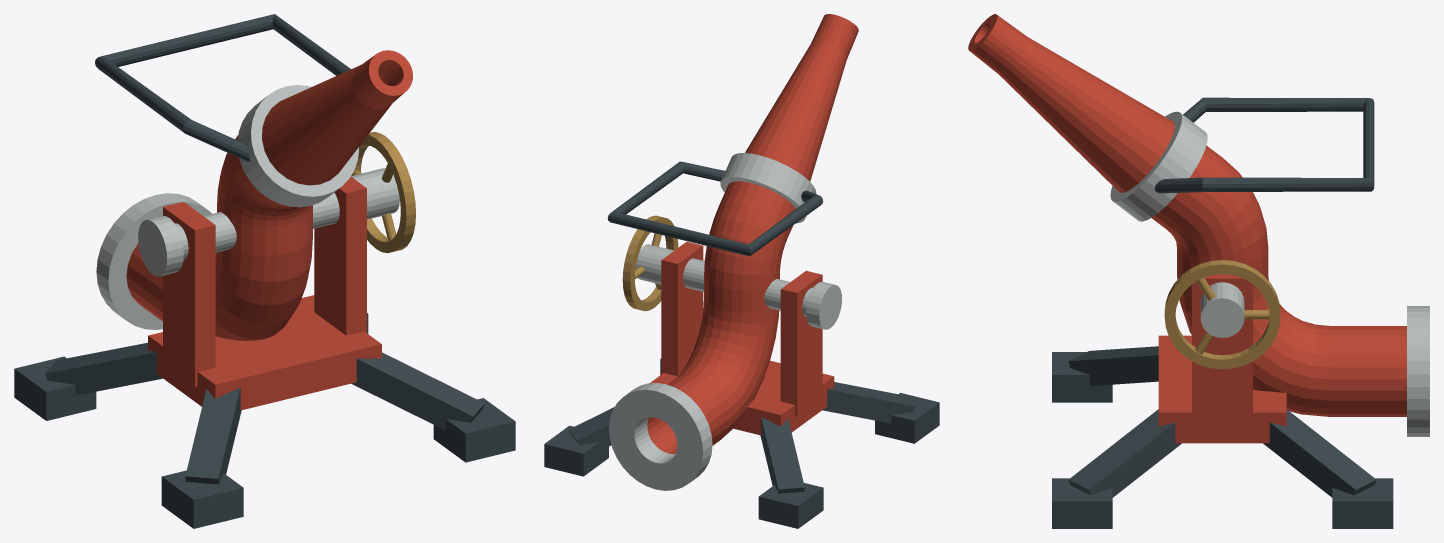
The picture shows the model from 3 angles, left to right: view 1: azimuth 30°, elevation 25°; view 2: azimuth 150°, elevation 25°; view 3: azimuth 270°, elevation 25°; orthographic projection. The views are drawn at different scales.
Visible parts, largest first — view 1: WholeBentBodyAndTaperedOpenNozzle, WholeLowBaseAndUprightFork, WholeRearwardOpenUHandle, WholeSplayedFootArm1_-1, WholeRearOpenInletCollar, WholeUpperNozzleShoulderCollar, WholeSplayedFootArm-1_1, WholeSplayedFootArm-1_-1, WholeGroundShoe-1_-1, WholeGroundShoe1_-1, WholeGroundShoe-1_1, WholeRightOpenHandwheel (+4 smaller); view 2: WholeBentBodyAndTaperedOpenNozzle, WholeLowBaseAndUprightFork, WholeRearOpenInletCollar, WholeRearwardOpenUHandle, WholeUpperNozzleShoulderCollar, WholeSplayedFootArm-1_-1, WholeSplayedFootArm-1_1, WholeGroundShoe-1_1, WholeGroundShoe1_1, WholeGroundShoe-1_-1, WholeRightOpenHandwheel, WholeLeftTrunnionCap (+4 smaller); view 3: WholeBentBodyAndTaperedOpenNozzle, WholeLowBaseAndUprightFork, WholeRearwardOpenUHandle, WholeSplayedFootArm1_1, WholeSplayedFootArm1_-1, WholeRightOpenHandwheel, WholeUpperNozzleShoulderCollar, WholeRearOpenInletCollar, WholeSplayedFootArm-1_-1, WholeGroundShoe1_1, WholeGroundShoe1_-1, WholeGroundShoe-1_-1 (+1 smaller).
Part boxes in pixels (left/top/right/bottom): WholeBentBodyAndTaperedOpenNozzle: left=126, top=50, right=412, bottom=340; WholeLowBaseAndUprightFork: left=148, top=176, right=381, bottom=410; WholeRearwardOpenUHandle: left=95, top=14, right=350, bottom=161; WholeSplayedFootArm1_-1: left=351, top=352, right=484, bottom=430; WholeRearOpenInletCollar: left=96, top=193, right=211, bottom=329; WholeUpperNozzleShoulderCollar: left=237, top=85, right=358, bottom=207; WholeSplayedFootArm-1_1: left=45, top=342, right=162, bottom=395; WholeSplayedFootArm-1_-1: left=185, top=387, right=241, bottom=484; WholeGroundShoe-1_-1: left=161, top=470, right=243, bottom=528; WholeGroundShoe1_-1: left=433, top=398, right=515, bottom=462; WholeGroundShoe-1_1: left=14, top=356, right=96, bottom=420; WholeRightOpenHandwheel: left=351, top=132, right=415, bottom=253; WholeBentBodyAndTaperedOpenNozzle: left=647, top=14, right=858, bottom=453; WholeLowBaseAndUprightFork: left=650, top=241, right=834, bottom=435; WholeRearOpenInletCollar: left=609, top=383, right=712, bottom=490; WholeRearwardOpenUHandle: left=607, top=161, right=823, bottom=256; WholeUpperNozzleShoulderCollar: left=720, top=153, right=816, bottom=223; WholeSplayedFootArm-1_-1: left=822, top=382, right=915, bottom=423; WholeSplayedFootArm-1_1: left=760, top=417, right=804, bottom=493; WholeGroundShoe-1_1: left=758, top=483, right=823, bottom=528; WholeGroundShoe1_1: left=544, top=425, right=608, bottom=476; WholeGroundShoe-1_-1: left=875, top=393, right=939, bottom=443; WholeRightOpenHandwheel: left=622, top=215, right=678, bottom=311; WholeLeftTrunnionCap: left=806, top=282, right=842, bottom=329; WholeBentBodyAndTaperedOpenNozzle: left=968, top=14, right=1406, bottom=416; WholeLowBaseAndUprightFork: left=1158, top=274, right=1286, bottom=443; WholeRearwardOpenUHandle: left=1154, top=97, right=1374, bottom=193; WholeSplayedFootArm1_1: left=1263, top=409, right=1376, bottom=497; WholeSplayedFootArm1_-1: left=1068, top=409, right=1181, bottom=497; WholeRightOpenHandwheel: left=1164, top=260, right=1280, bottom=369; WholeUpperNozzleShoulderCollar: left=1110, top=111, right=1207, bottom=221; WholeRearOpenInletCollar: left=1407, top=306, right=1429, bottom=436; WholeSplayedFootArm-1_-1: left=1068, top=346, right=1158, bottom=386; WholeGroundShoe1_1: left=1332, top=478, right=1393, bottom=528; WholeGroundShoe1_-1: left=1052, top=478, right=1112, bottom=528; WholeGroundShoe-1_-1: left=1052, top=352, right=1112, bottom=402.
Bounding box in the file's own units: 1.16 × 1.58 × 1.51.
